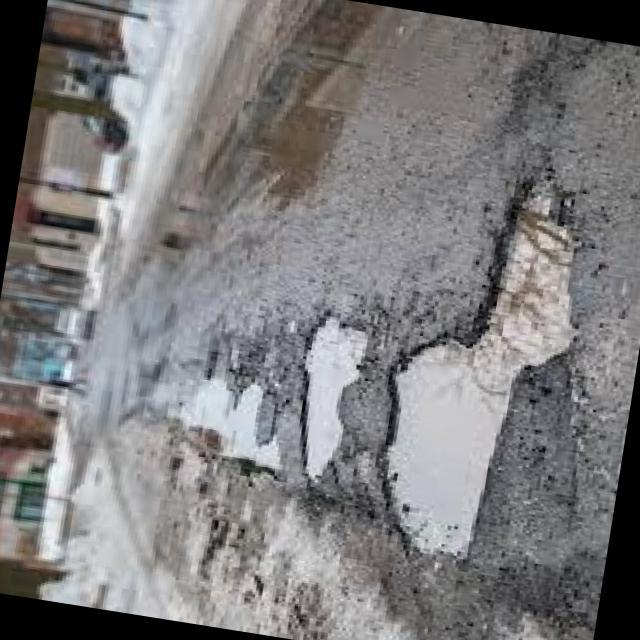pothole: (374, 180, 593, 573), (266, 290, 374, 492)
